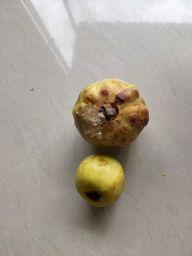guava: (73, 76, 152, 152), (75, 153, 126, 210)
